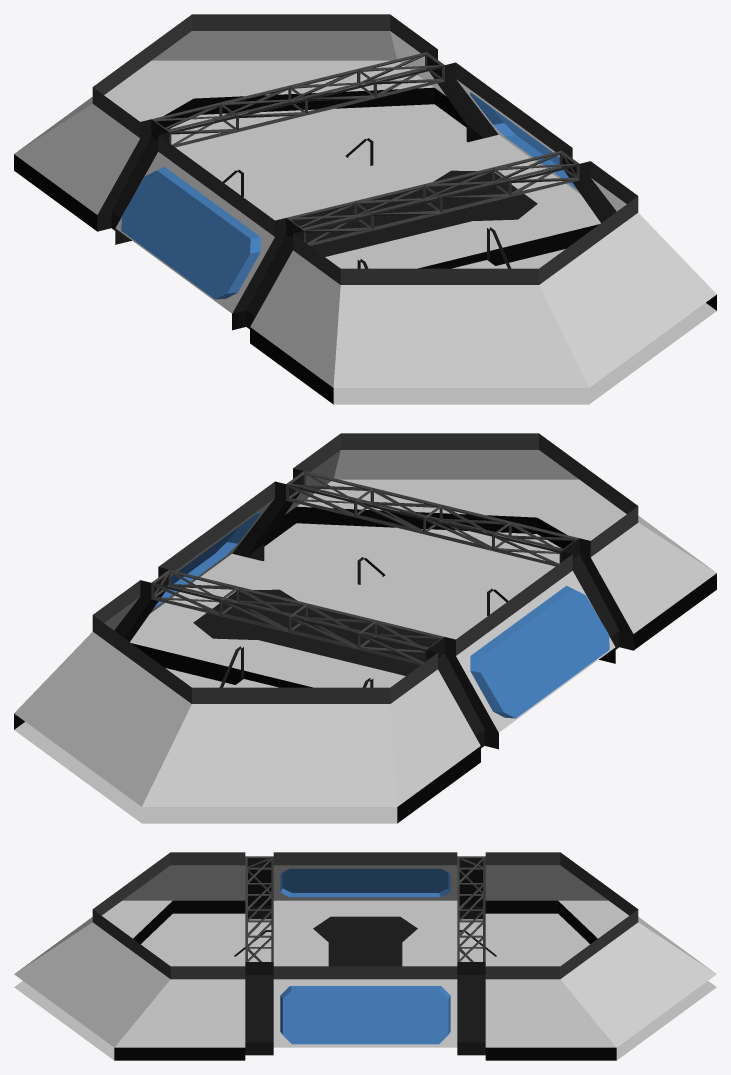
File: basicfrontmk1.glb
3 renders of one model, top to bottom at view 1: azimuth 30°, elevation 25°; view 2: azimuth 150°, elevation 25°; view 3: azimuth 270°, elevation 25°, orthographic. The views are drawn at different scales.
Visible parts, largest first — view 1: Circle; view 2: Circle; view 3: Circle.
Part boxes in pixels (x1,y1,x2,y2): Circle: [14, 14, 716, 404]; Circle: [14, 433, 716, 823]; Circle: [14, 852, 716, 1060].
Size of the model in its own units: 24.95 by 6 by 49.
1 material, 1 textured.
